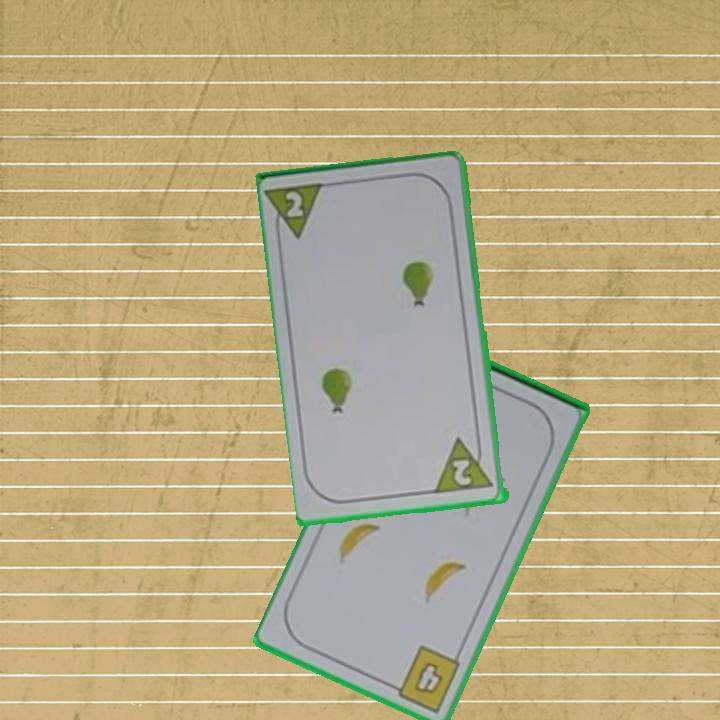2p: (450, 456, 476, 489), (282, 187, 307, 221)
4b: (386, 642, 464, 716)
